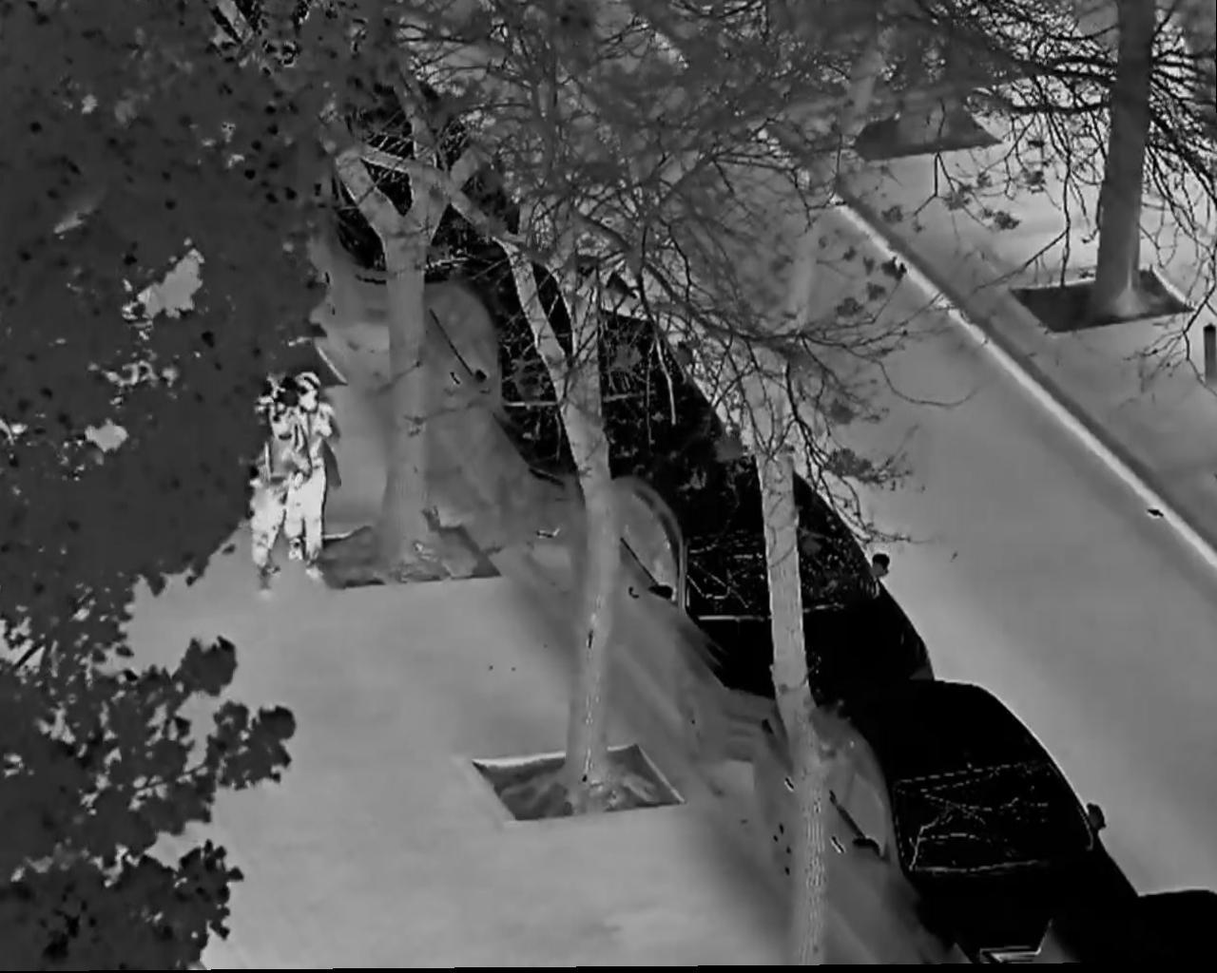person: (222, 380, 299, 593), (278, 371, 340, 579)
